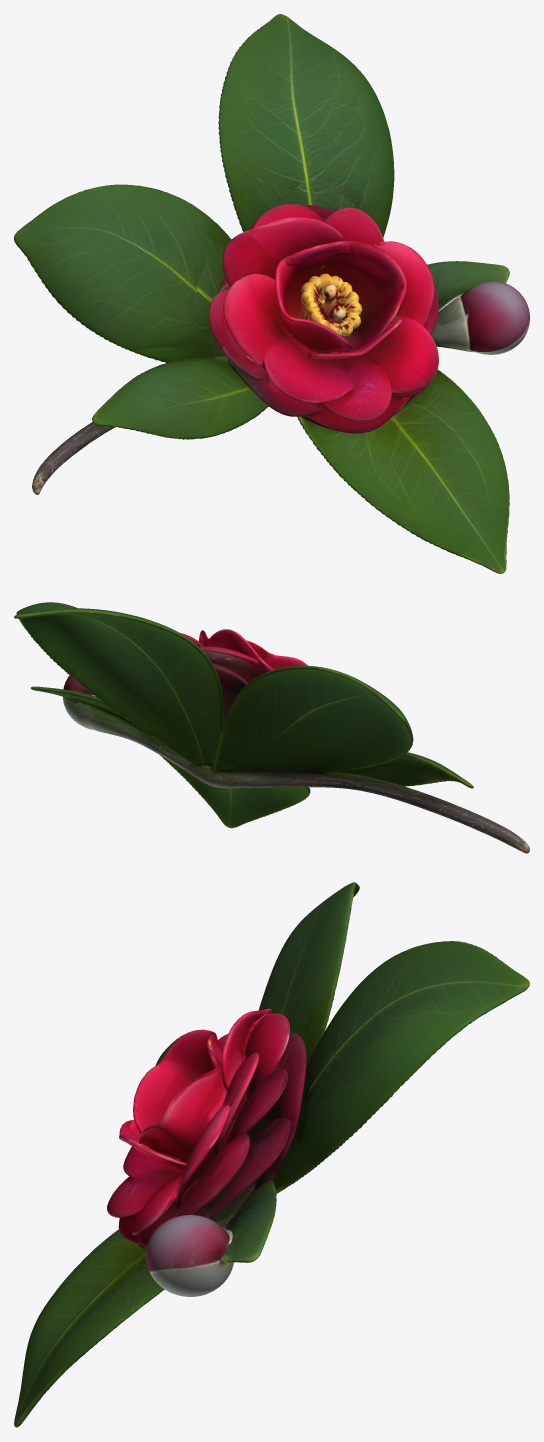
File: shanchahua.glb
3 views of the same model, one above another, from view 1: azimuth 30°, elevation 25°; view 2: azimuth 150°, elevation 25°; view 3: azimuth 270°, elevation 25° (orthographic). The views are drawn at different scales.
Parts seen in each view (by area): view 1: node_0; view 2: node_0; view 3: node_0.
Part boxes in pixels (<box>): node_0: <box>14,14,529,573</box>; node_0: <box>14,602,529,853</box>; node_0: <box>14,882,529,1427</box>.
Size of the model in its own units: 0.9866 by 0.7397 by 0.7659.
Materials: 1 (1 with a texture image).
